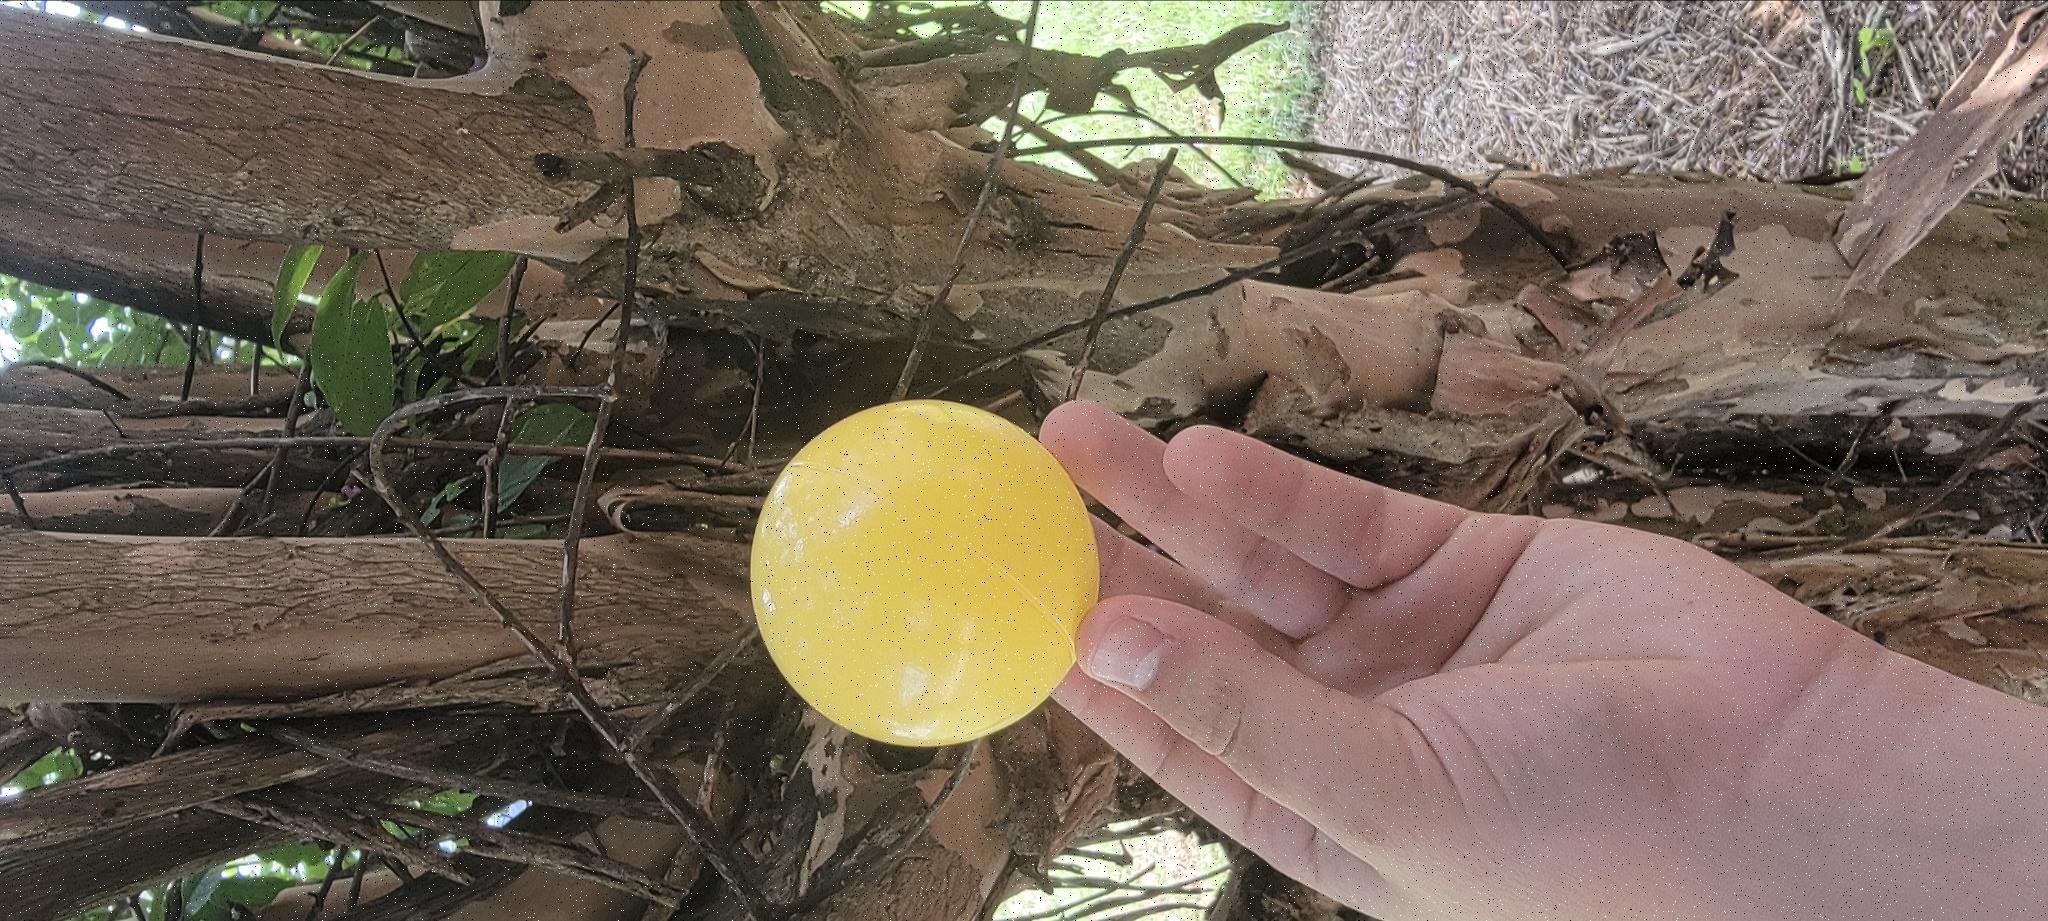Yellow-Ball: (172, 745, 521, 921)
